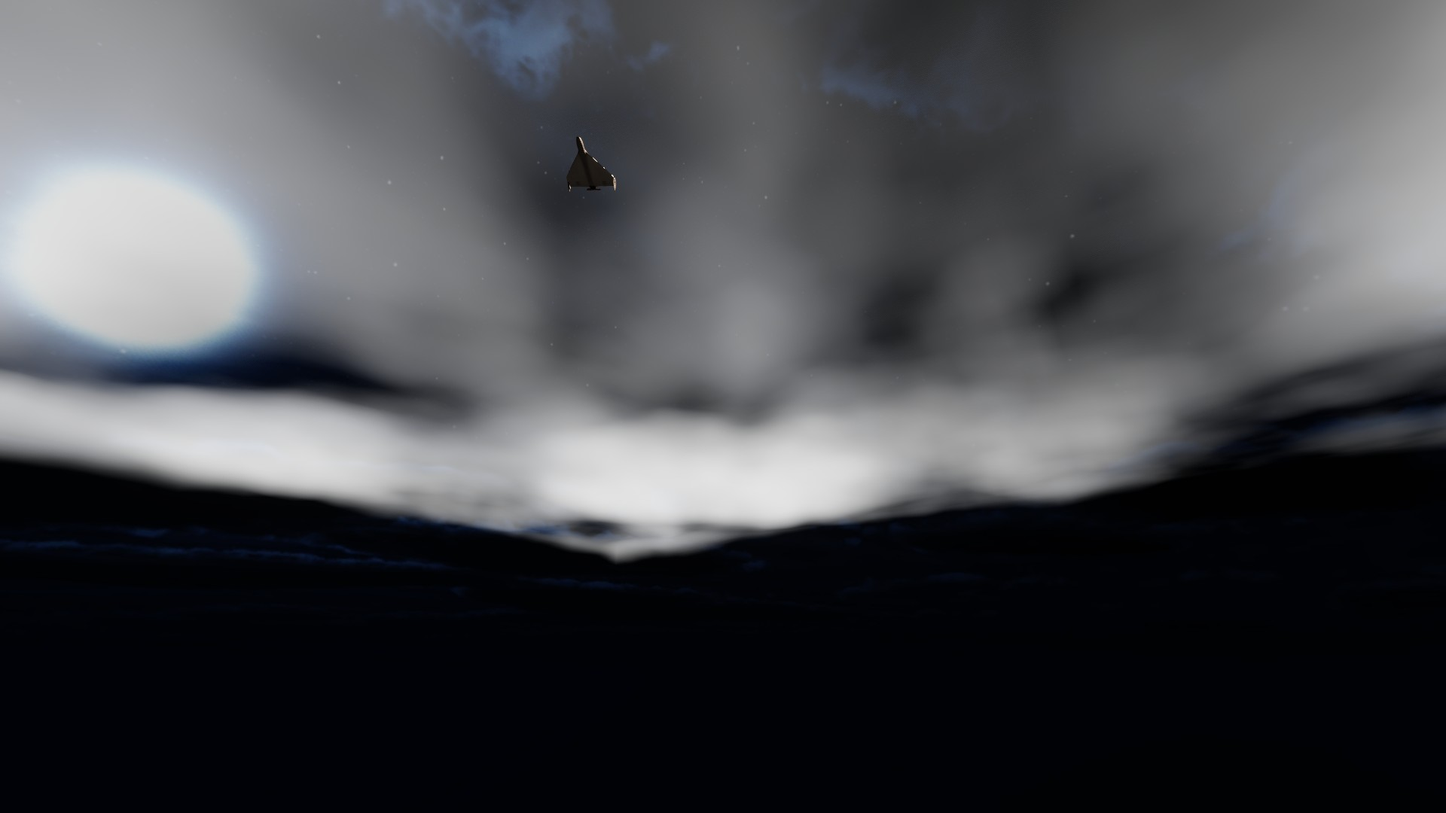shahed: (566, 137, 616, 192)
